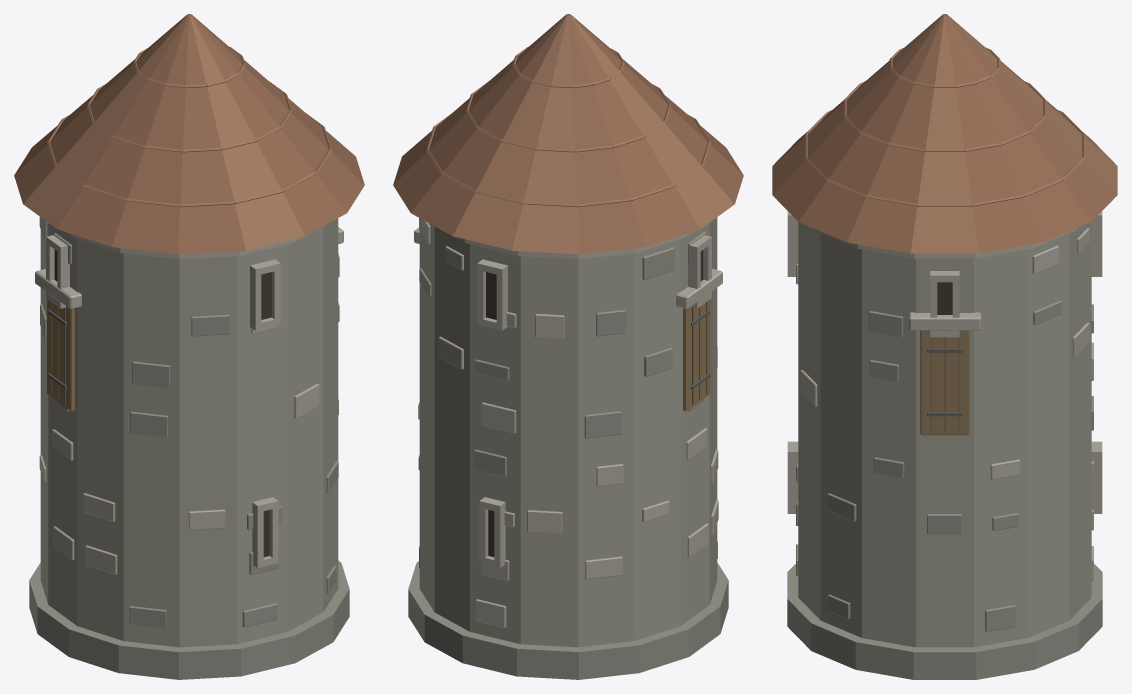
The model's file is fort_tower_round.glb.
The picture shows the model from 3 angles, left to right: view 1: azimuth 30°, elevation 25°; view 2: azimuth 150°, elevation 25°; view 3: azimuth 270°, elevation 25°; orthographic projection.
Visible parts, largest first — view 1: fort_tower_round_fort_masonry, fort_tower_round_fort_roof, fort_tower_round_fort_stone_dark, fort_tower_round_fort_stone_light, fort_tower_round_fort_roof_light, fort_tower_round_oak, fort_tower_round_black; view 2: fort_tower_round_fort_masonry, fort_tower_round_fort_roof, fort_tower_round_fort_stone_dark, fort_tower_round_fort_stone_light, fort_tower_round_fort_roof_light, fort_tower_round_oak, fort_tower_round_black; view 3: fort_tower_round_fort_masonry, fort_tower_round_fort_roof, fort_tower_round_fort_stone_dark, fort_tower_round_fort_stone_light, fort_tower_round_oak, fort_tower_round_fort_roof_light, fort_tower_round_oak_dark, fort_tower_round_black.
Part boxes in pixels (left/top/right/bottom): fort_tower_round_fort_masonry: left=40, top=218, right=338, bottom=647; fort_tower_round_fort_roof: left=14, top=14, right=364, bottom=254; fort_tower_round_fort_stone_dark: left=29, top=217, right=349, bottom=679; fort_tower_round_fort_stone_light: left=35, top=227, right=343, bottom=574; fort_tower_round_fort_roof_light: left=47, top=46, right=331, bottom=207; fort_tower_round_oak: left=47, top=299, right=74, bottom=411; fort_tower_round_black: left=54, top=250, right=271, bottom=557; fort_tower_round_fort_masonry: left=419, top=217, right=717, bottom=647; fort_tower_round_fort_roof: left=393, top=14, right=743, bottom=254; fort_tower_round_fort_stone_dark: left=408, top=231, right=728, bottom=679; fort_tower_round_fort_stone_light: left=414, top=218, right=722, bottom=627; fort_tower_round_fort_roof_light: left=426, top=46, right=710, bottom=207; fort_tower_round_oak: left=683, top=299, right=710, bottom=411; fort_tower_round_black: left=486, top=250, right=703, bottom=557; fort_tower_round_fort_masonry: left=798, top=222, right=1091, bottom=647; fort_tower_round_fort_roof: left=772, top=14, right=1117, bottom=253; fort_tower_round_fort_stone_dark: left=787, top=300, right=1102, bottom=679; fort_tower_round_fort_stone_light: left=787, top=211, right=1102, bottom=580; fort_tower_round_oak: left=920, top=330, right=969, bottom=435; fort_tower_round_fort_roof_light: left=804, top=47, right=1085, bottom=206; fort_tower_round_oak_dark: left=930, top=337, right=959, bottom=432; fort_tower_round_black: left=937, top=282, right=952, bottom=314.
Bounding box in the file's own units: 4.28 × 8.17 × 4.28.
